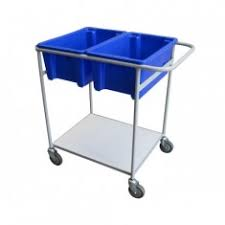Carts: (34, 25, 197, 199)
